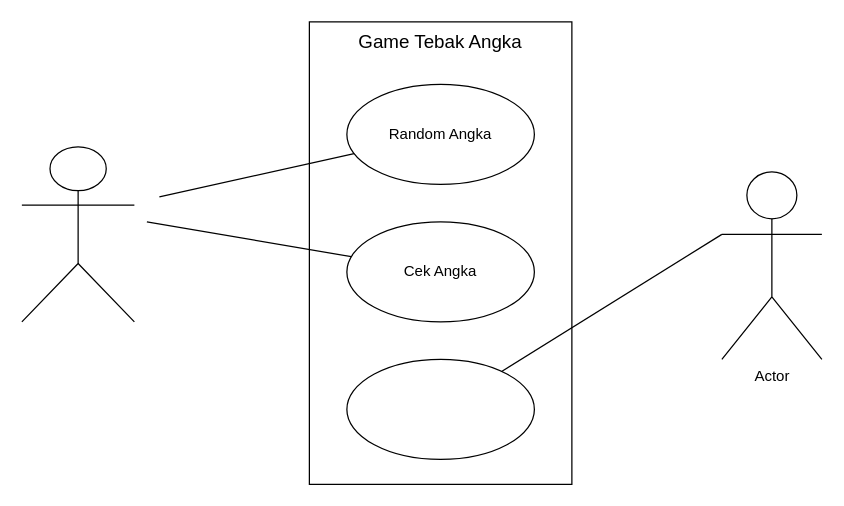
The diagram is 844 pixels wide and 506 high, and some of its shapes have lost their labels. Here are the shapes that lost their labels. From the top down, the centre of each, then its label:
(x=77, y=234): Komputer
(x=440, y=408): Menebak Angka
